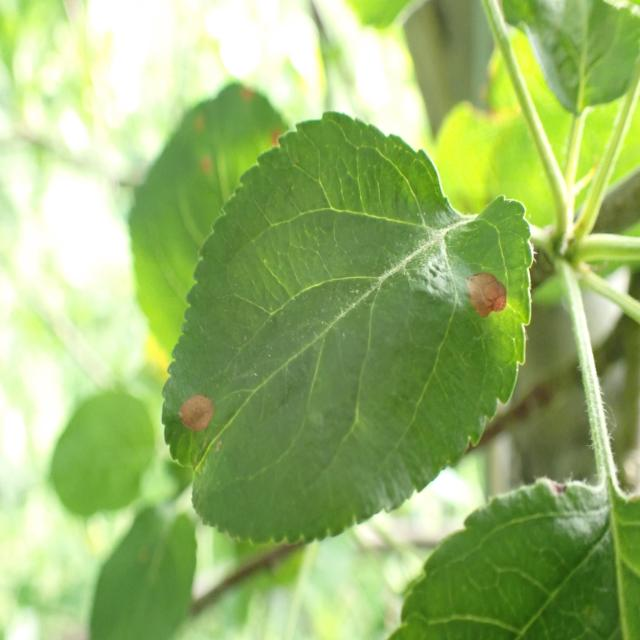frog-eye-leaf-spot: (160, 115, 536, 548)
